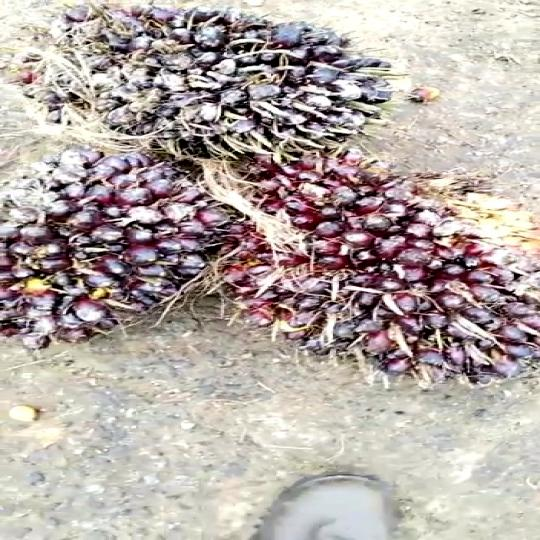kurang masak: (187, 154, 535, 397), (0, 0, 374, 163), (0, 149, 236, 356)
